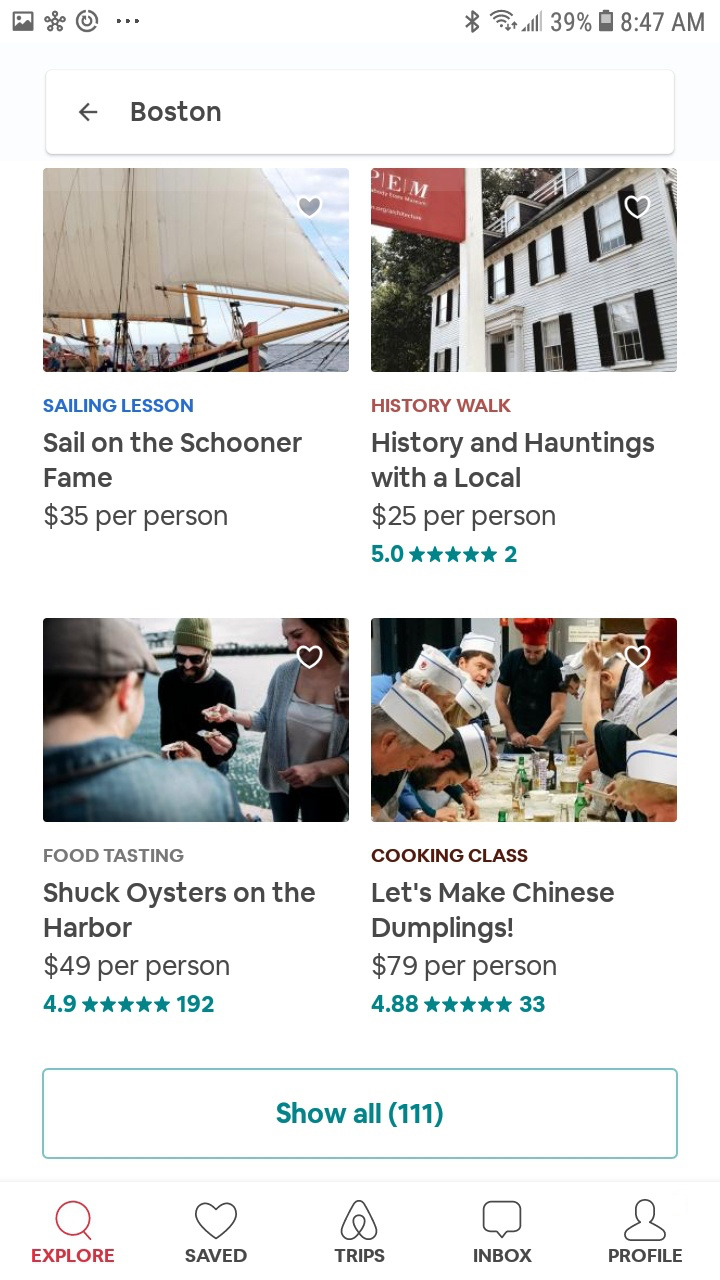Icon: (624, 1199, 667, 1242), (195, 1202, 238, 1240), (482, 1200, 522, 1239), (56, 1200, 93, 1241), (424, 996, 513, 1013), (82, 996, 171, 1013), (409, 546, 498, 563), (296, 645, 324, 670), (297, 195, 323, 220), (624, 646, 651, 670), (624, 196, 651, 220), (79, 104, 99, 123)
Image: (371, 618, 677, 823), (44, 618, 350, 823), (44, 168, 350, 373), (371, 168, 677, 373), (341, 1200, 378, 1241)
Text: (371, 430, 655, 488), (44, 882, 316, 938), (372, 882, 615, 944), (44, 430, 302, 488), (44, 501, 227, 532), (44, 953, 230, 982), (372, 953, 557, 982), (373, 503, 556, 532), (43, 395, 194, 413), (372, 848, 529, 863), (44, 848, 185, 863), (372, 398, 512, 413), (132, 101, 222, 122), (32, 1248, 115, 1263), (609, 1249, 683, 1263), (185, 1249, 248, 1263), (371, 995, 419, 1013), (474, 1249, 533, 1263), (334, 1249, 386, 1263), (177, 994, 215, 1013), (371, 544, 404, 563), (43, 995, 77, 1013), (520, 996, 546, 1013), (505, 546, 518, 563)
TextButton: (42, 1068, 678, 1160)
UpperTaskBar: (1, 1, 720, 43)
